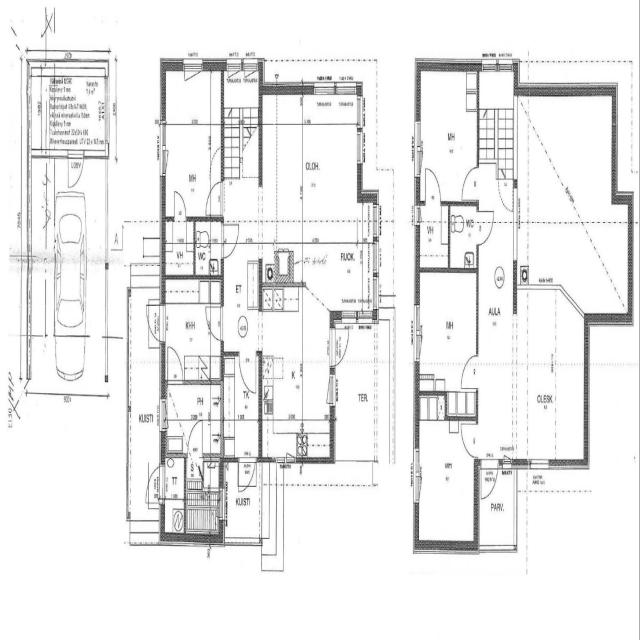door: (449, 201, 480, 271), (237, 350, 259, 398), (145, 302, 165, 346), (205, 301, 225, 344), (166, 343, 185, 387), (460, 352, 479, 394), (423, 164, 442, 206), (460, 163, 480, 202), (480, 461, 499, 502), (497, 172, 515, 215), (476, 209, 495, 248), (459, 421, 478, 460), (204, 180, 224, 217), (146, 465, 163, 508), (239, 454, 257, 494), (222, 222, 239, 262), (187, 418, 204, 458), (334, 326, 350, 366), (68, 151, 84, 189), (172, 187, 188, 221)
window: (412, 113, 423, 179), (479, 540, 516, 558), (412, 444, 421, 507), (413, 298, 422, 358), (160, 121, 168, 177), (182, 56, 205, 75), (312, 80, 336, 96), (158, 393, 167, 435), (529, 455, 551, 472), (336, 80, 358, 96), (305, 454, 329, 468), (356, 127, 364, 168), (226, 56, 243, 74), (329, 375, 336, 410), (268, 450, 284, 464), (284, 453, 296, 467)
zone: (266, 94, 362, 258), (163, 68, 222, 218), (418, 67, 479, 202), (416, 417, 477, 549), (261, 349, 333, 458), (417, 269, 478, 394), (163, 276, 223, 384), (39, 76, 107, 154), (162, 382, 224, 456), (222, 240, 260, 352), (328, 235, 375, 318), (478, 471, 517, 554), (185, 456, 220, 534), (29, 156, 53, 259), (416, 203, 449, 270), (161, 454, 186, 540), (449, 202, 478, 271), (193, 216, 224, 278), (163, 218, 194, 276)
